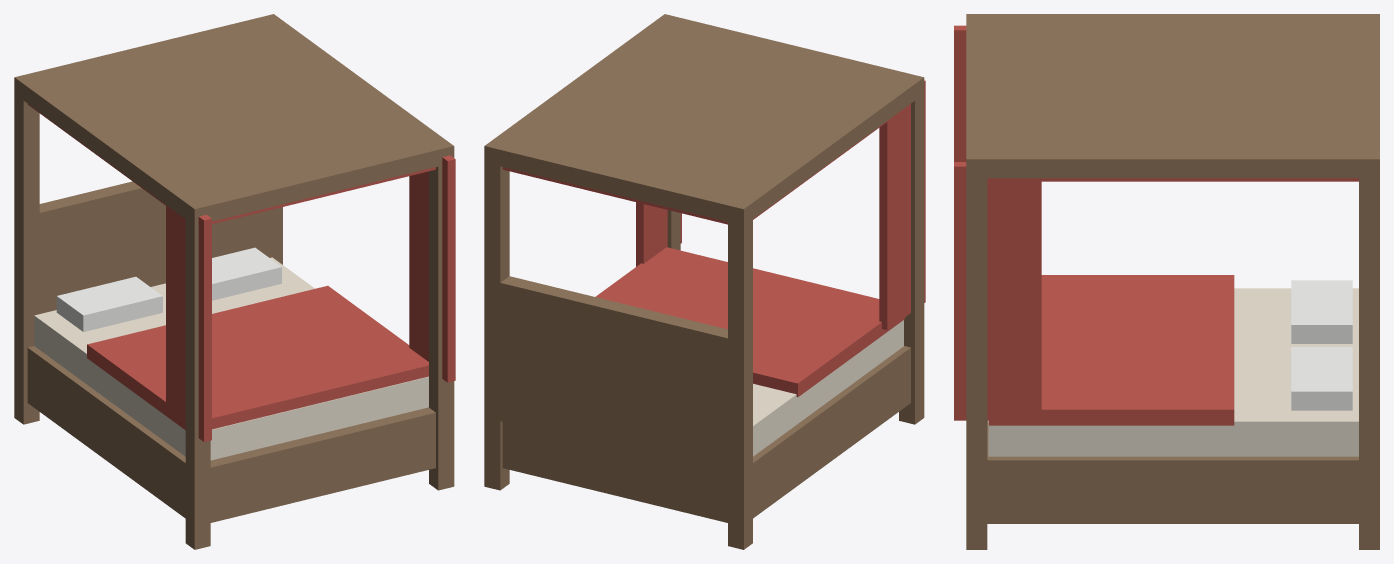
Rendered from bed_fourposter.glb.
The picture shows the model from 3 angles, left to right: view 1: azimuth 30°, elevation 25°; view 2: azimuth 150°, elevation 25°; view 3: azimuth 270°, elevation 25°; orthographic projection. The views are drawn at different scales.
Visible parts, largest first — view 1: bed_fourposter; view 2: bed_fourposter; view 3: bed_fourposter.
Part boxes in pixels (x1,y1,x2,y2): bed_fourposter: [14, 14, 455, 549]; bed_fourposter: [484, 14, 925, 549]; bed_fourposter: [954, 14, 1379, 549].
Bounding box in the file's own units: 1.96 × 2.46 × 2.43.
